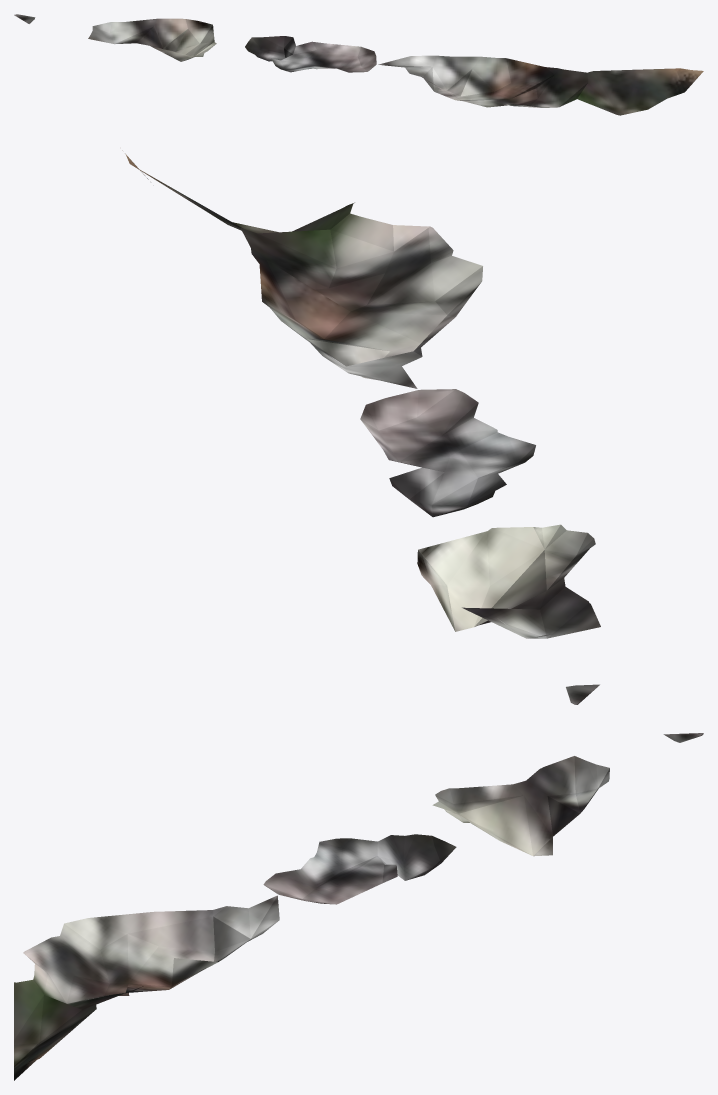
3 renders of one model, top to bottom at view 1: azimuth 30°, elevation 25°; view 2: azimuth 150°, elevation 25°; view 3: azimuth 270°, elevation 25°, orthographic. The views are drawn at different scales.
Size of the model in its own units: 1.42 by 0.0861 by 1.23.
1 material, 1 textured.
